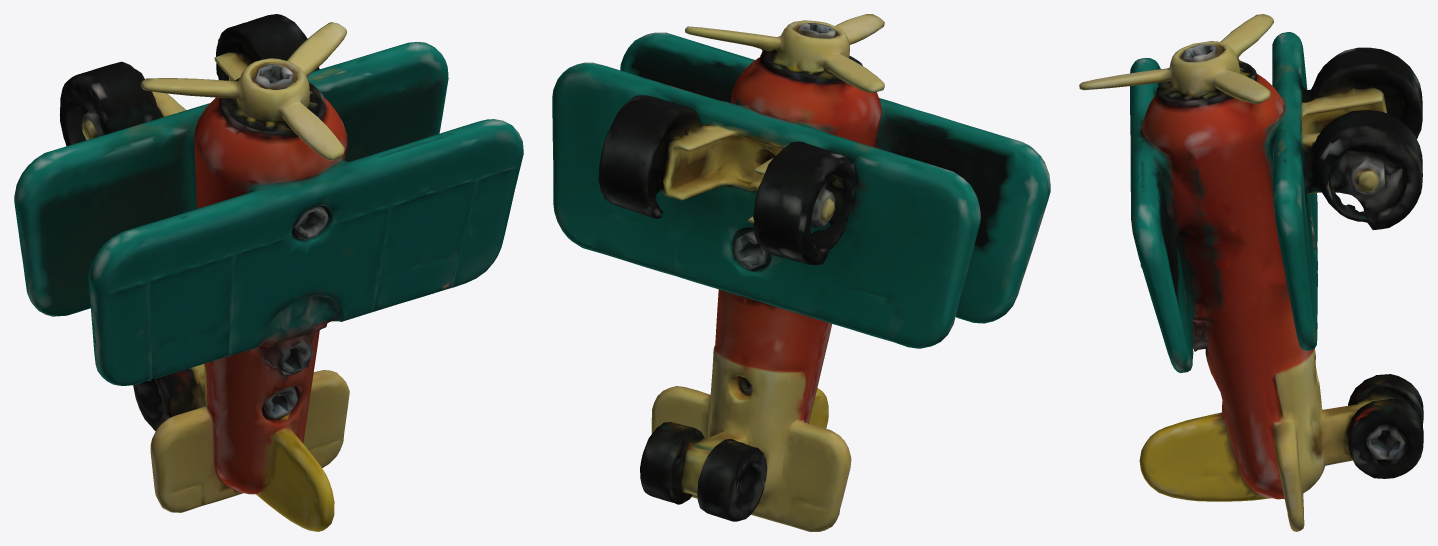
3 views of the same model, side by side, from view 1: azimuth 30°, elevation 25°; view 2: azimuth 150°, elevation 25°; view 3: azimuth 270°, elevation 25° (orthographic). The views are drawn at different scales.
Size of the model in its own units: 0.2552 by 0.2629 by 0.1834.
